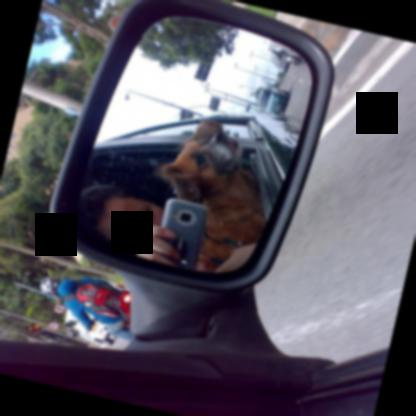backpack: (65, 279, 121, 317)
